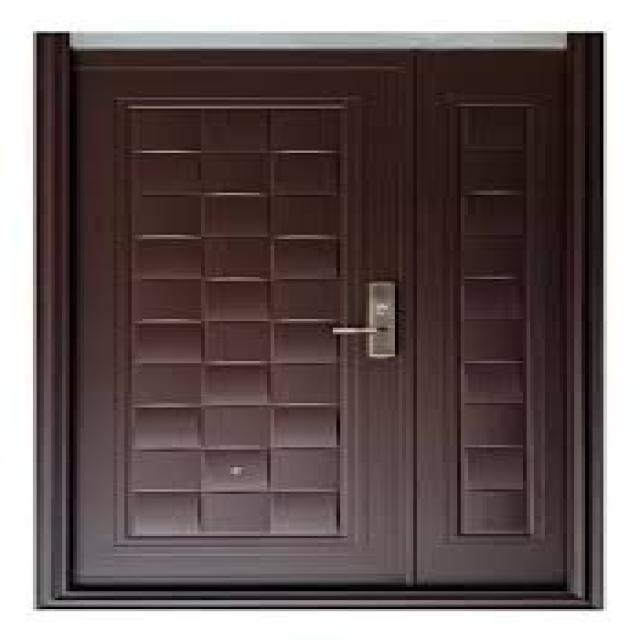door: (44, 38, 592, 609)
